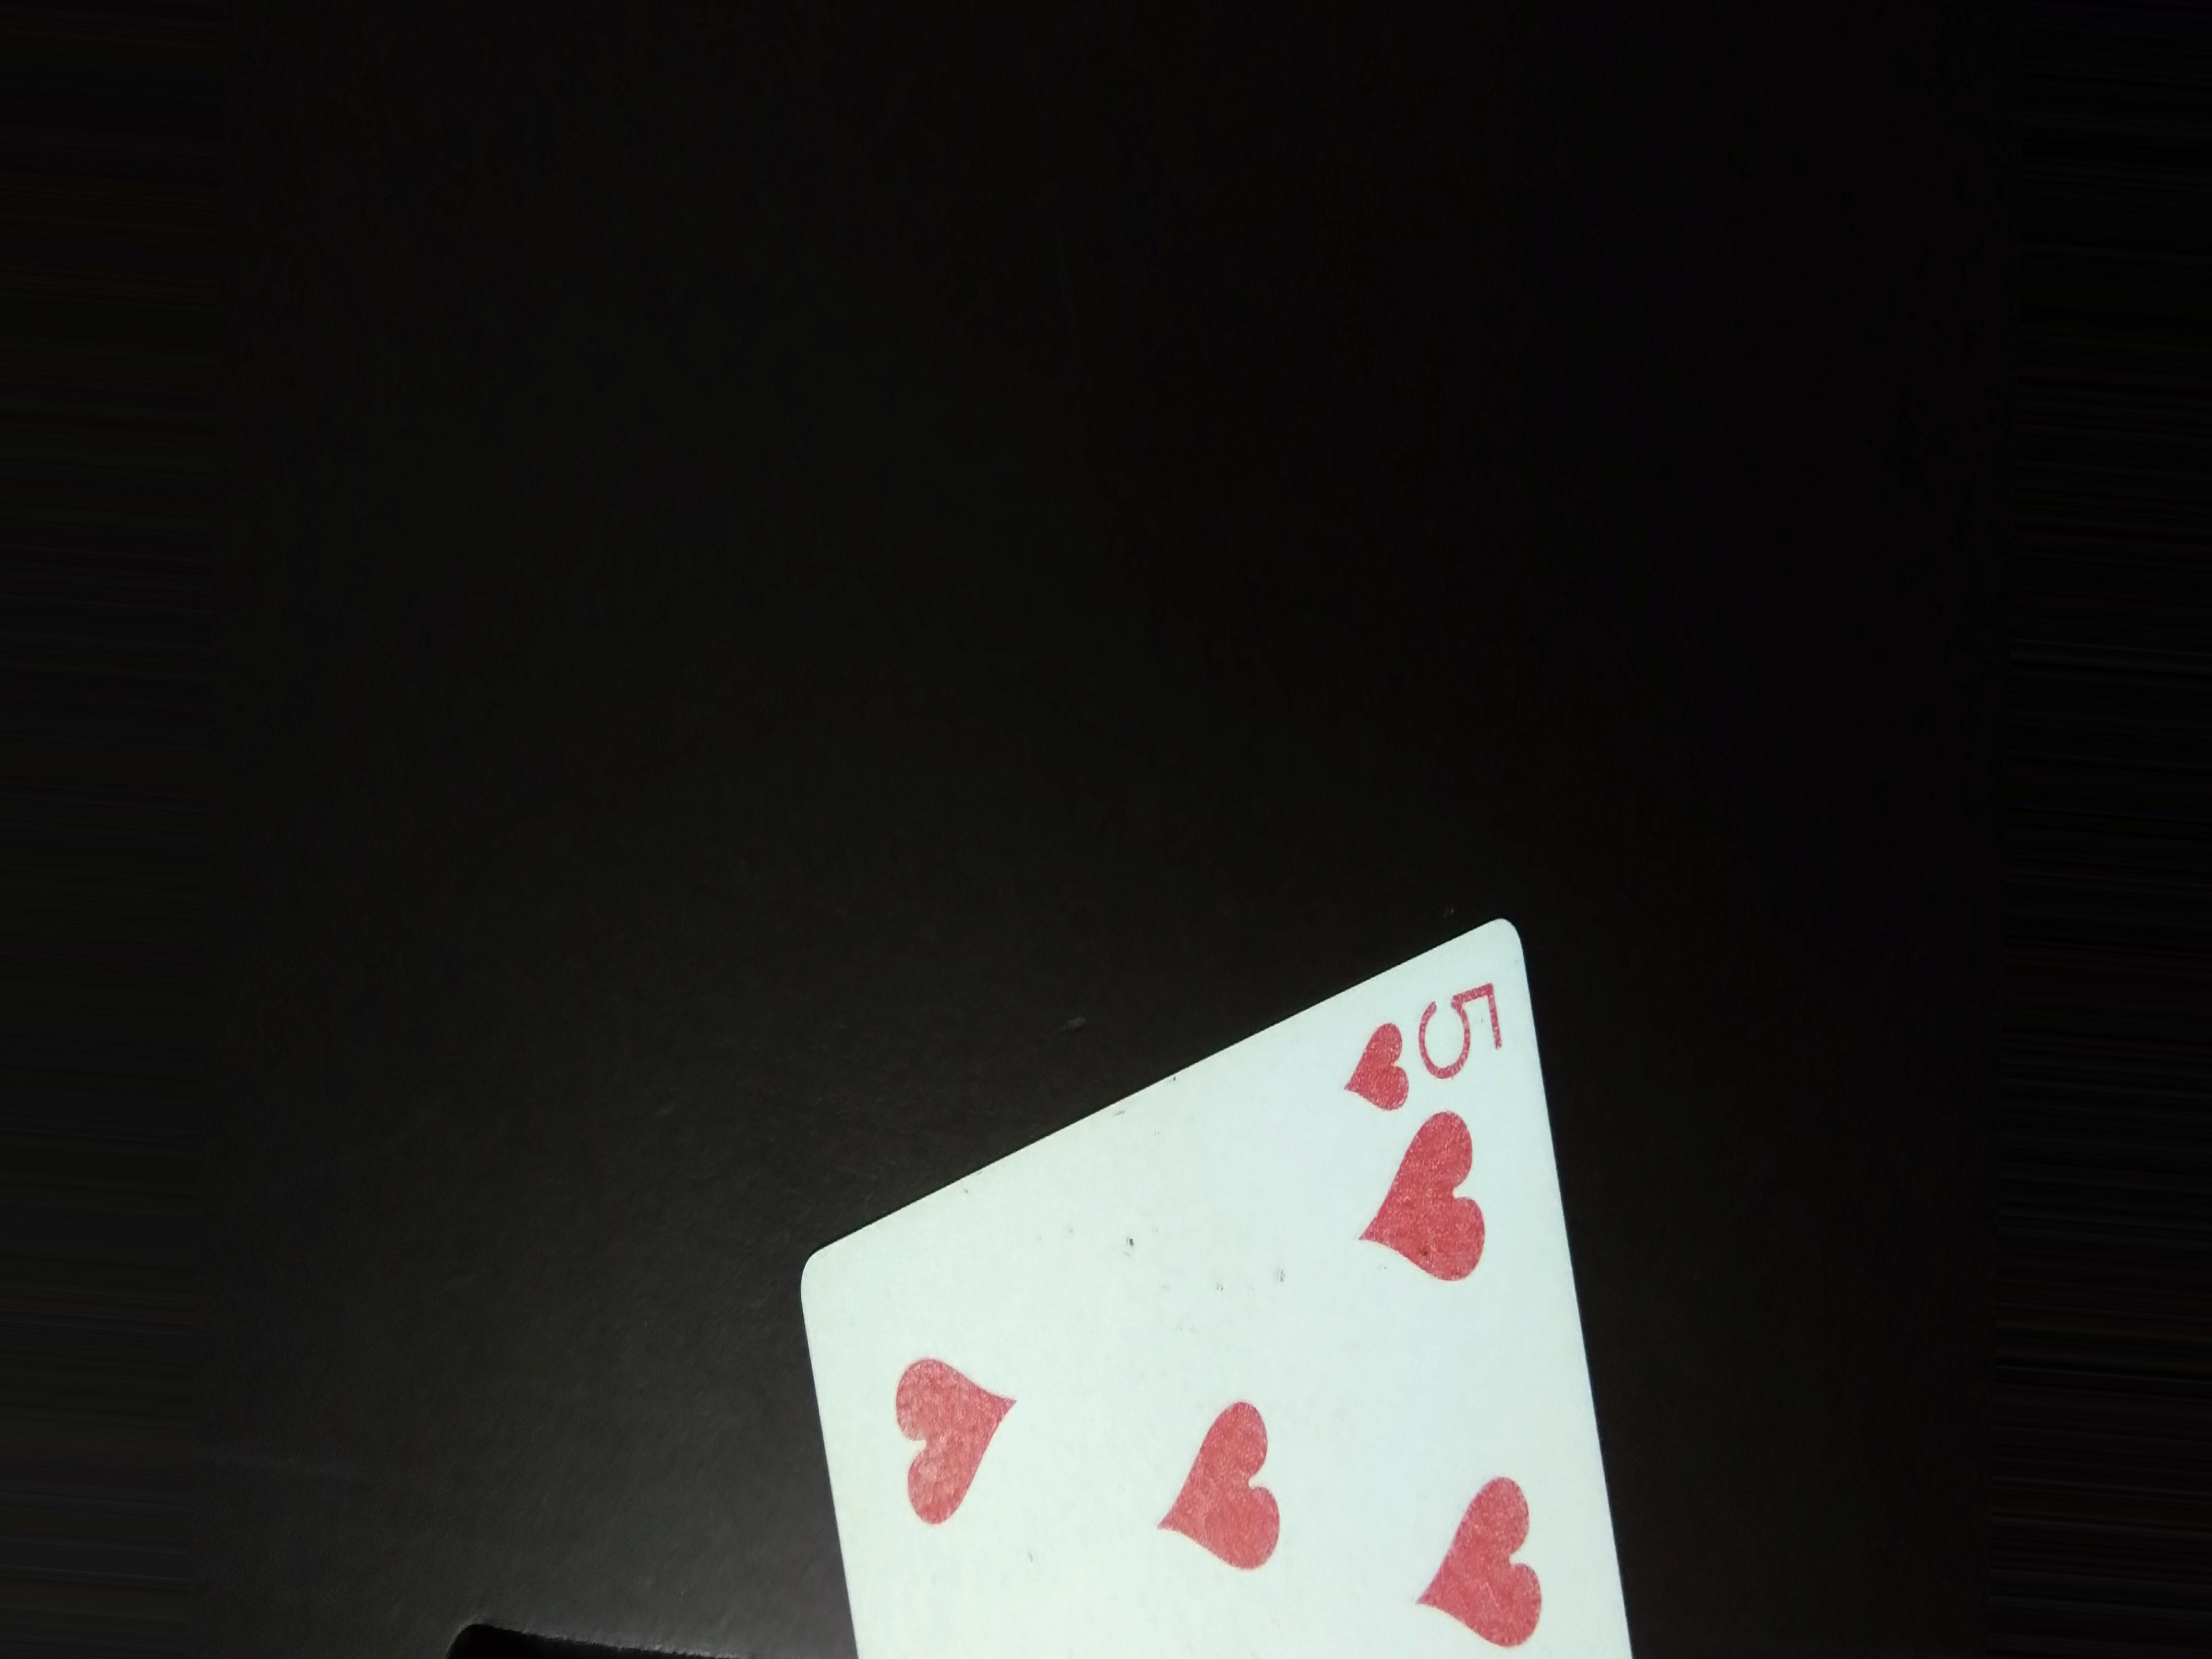5H: (1329, 969, 1519, 1119)
